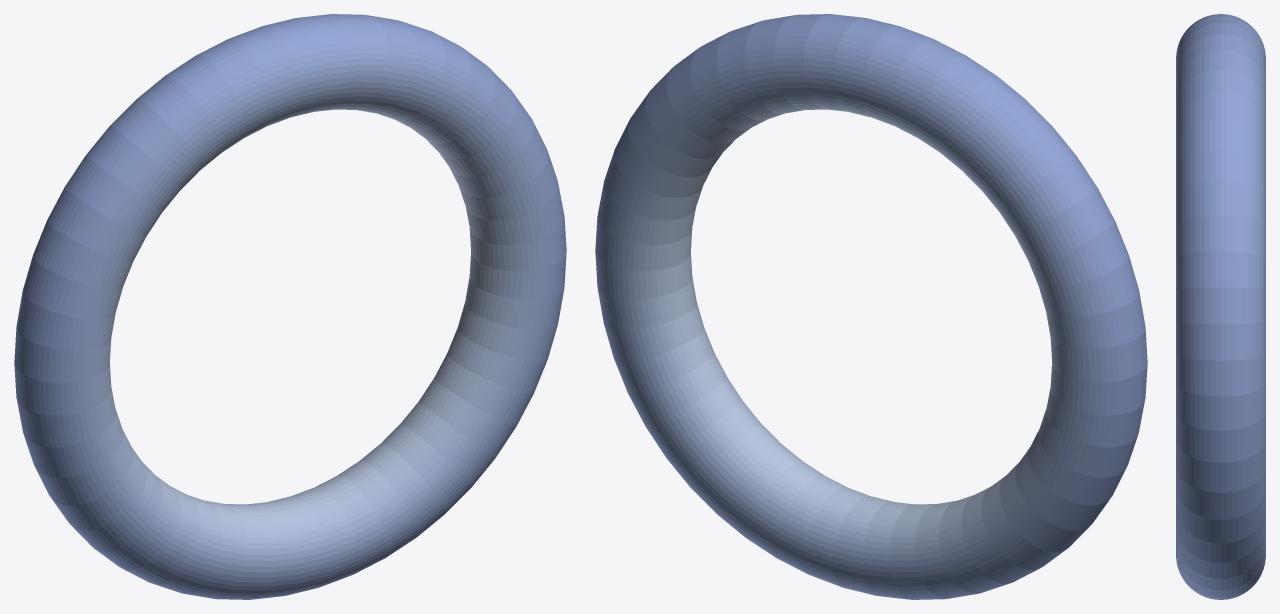
The picture shows the model from 3 angles, left to right: view 1: azimuth 30°, elevation 25°; view 2: azimuth 150°, elevation 25°; view 3: azimuth 270°, elevation 25°; orthographic projection. The views are drawn at different scales.
Parts seen in each view (by area): view 1: world; view 2: world; view 3: world.
Part boxes in pixels (x1,y1,x2,y2): world: (14,14,566,599); world: (595,14,1147,599); world: (1176,14,1265,599).
Bounding box in the file's own units: 25.2 × 25.15 × 3.86.
